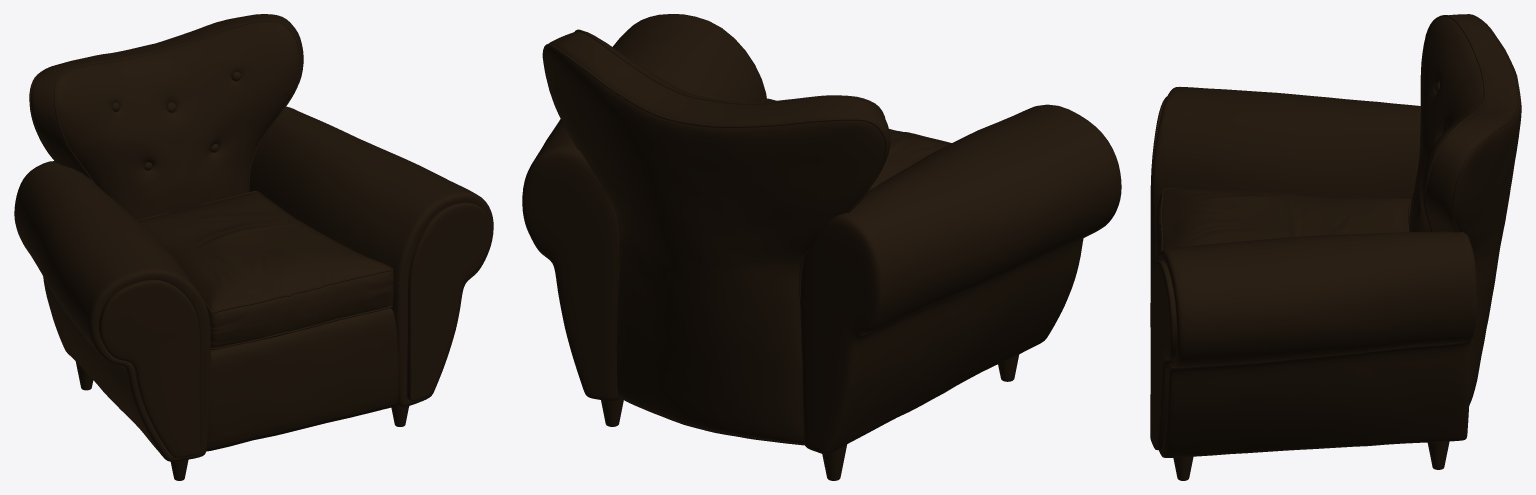
Rendered from Master.FBX.
The picture shows the model from 3 angles, left to right: view 1: azimuth 30°, elevation 25°; view 2: azimuth 150°, elevation 25°; view 3: azimuth 270°, elevation 25°; orthographic projection. The views are drawn at different scales.
Visible parts, largest first — view 1: armchair; view 2: armchair; view 3: armchair.
Part boxes in pixels (<box>): armchair: <box>14,14,493,480</box>; armchair: <box>522,14,1121,480</box>; armchair: <box>1150,14,1521,480</box>.
Bounding box in the file's own units: 992 × 744 × 720.
